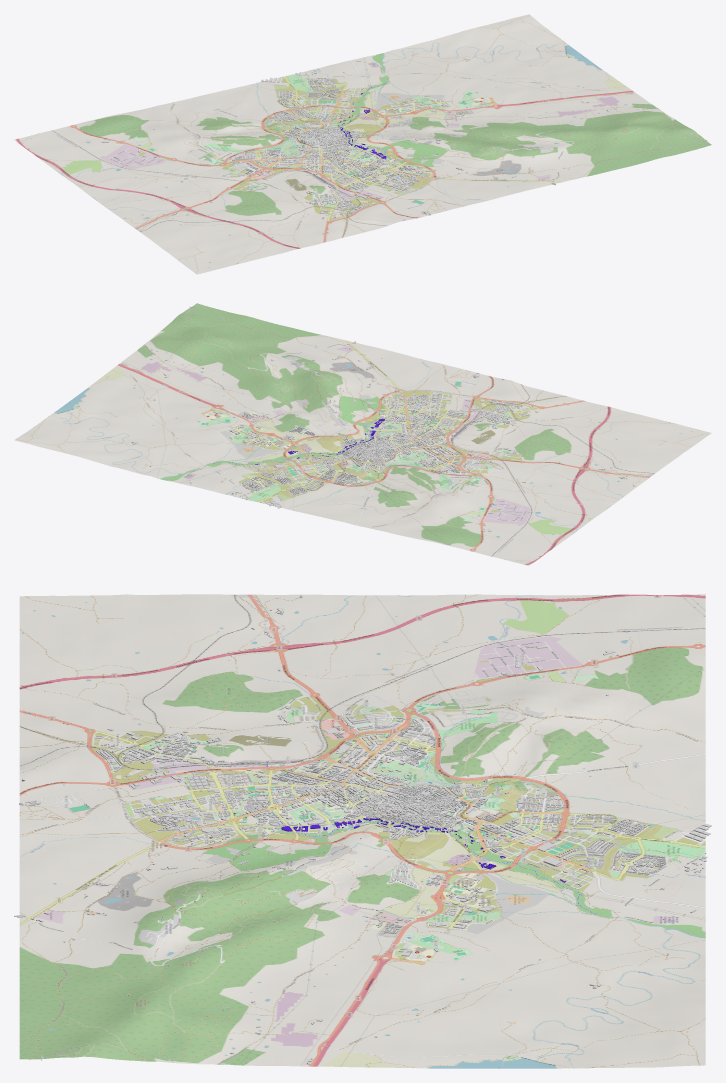
File: Caceres_mapa.glb
The picture shows the model from 3 angles, top to bottom: view 1: azimuth 30°, elevation 25°; view 2: azimuth 150°, elevation 25°; view 3: azimuth 270°, elevation 25°; orthographic projection. The views are drawn at different scales.
Visible parts, largest first — view 1: EXPORT_OSM_MAPNIK_WM; view 2: EXPORT_OSM_MAPNIK_WM; view 3: EXPORT_OSM_MAPNIK_WM.
Boxes of the visible parts, box(x1,y1,x2,y2) form: EXPORT_OSM_MAPNIK_WM: box(14, 14, 711, 274); EXPORT_OSM_MAPNIK_WM: box(14, 303, 711, 565); EXPORT_OSM_MAPNIK_WM: box(19, 594, 705, 1068).
Bounding box in the file's own units: 15939 × 326 × 9958.
Materials: 3 (1 with a texture image).
